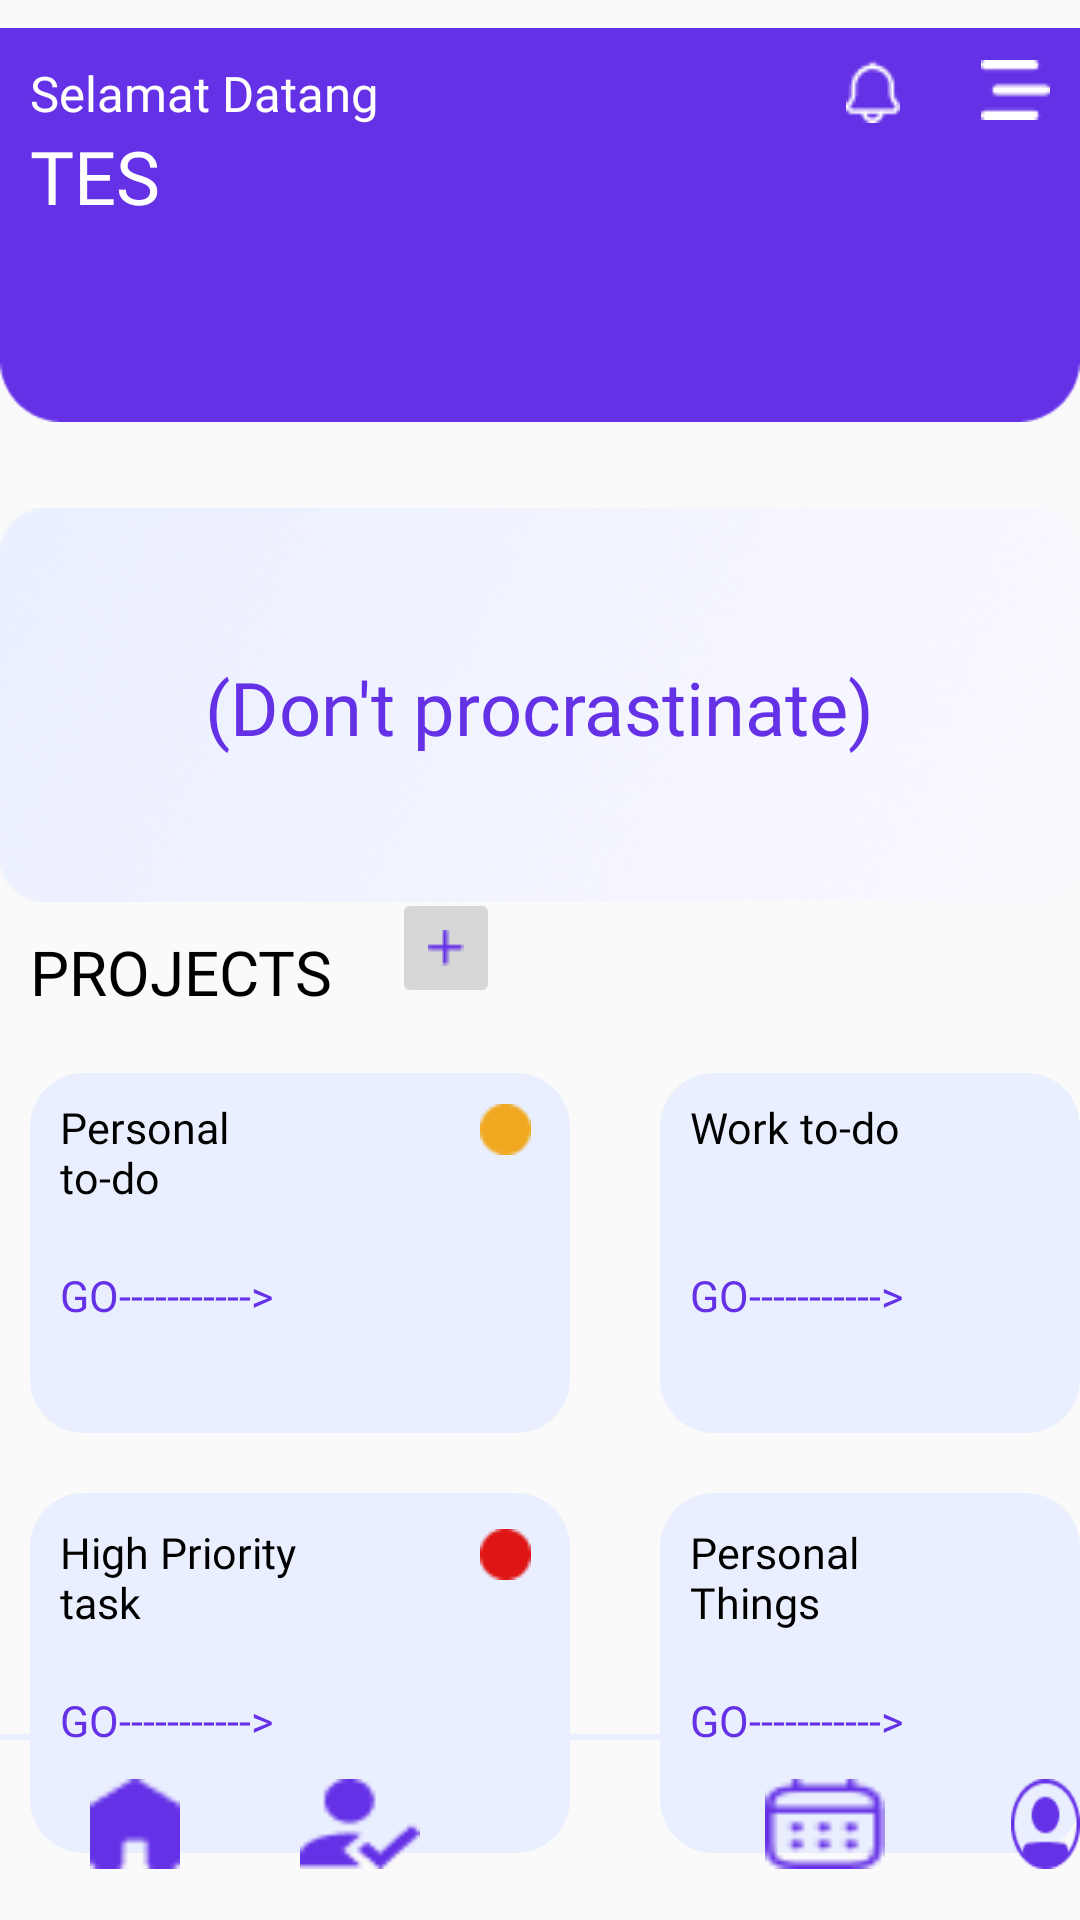

Named icons in this screenshot (1080 x 1920) and their centers, point (x, y):
cross: point (446, 948)
